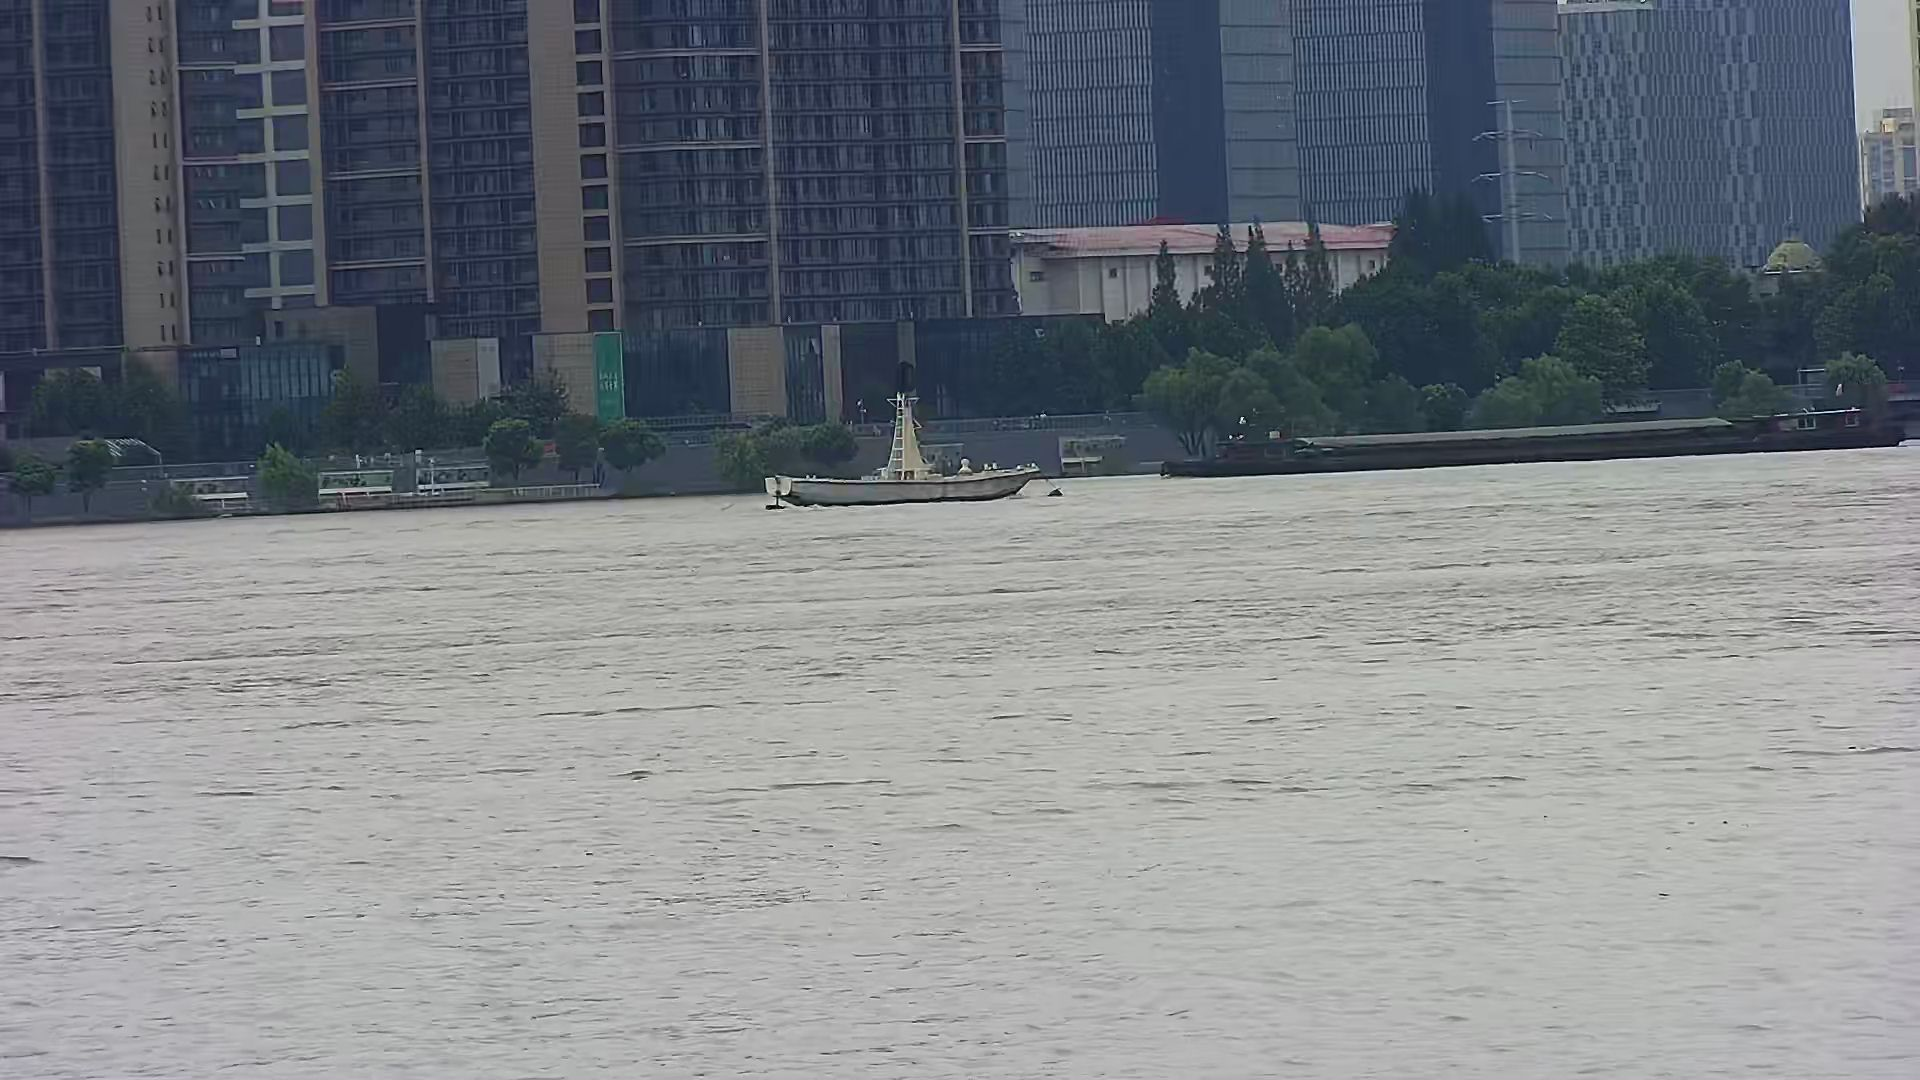boat: (762, 363, 1043, 504)
ship: (1162, 392, 1905, 479)
